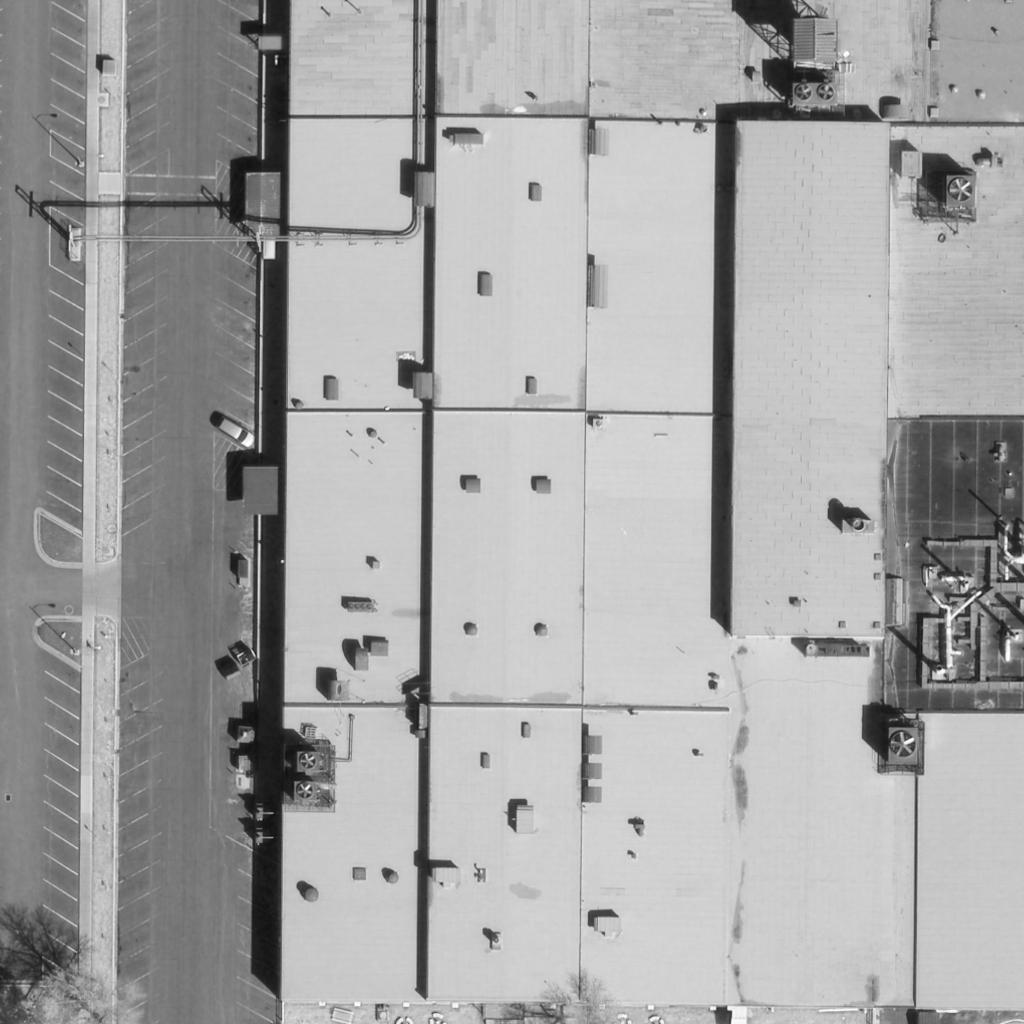vehicle: (217, 416, 257, 450)
